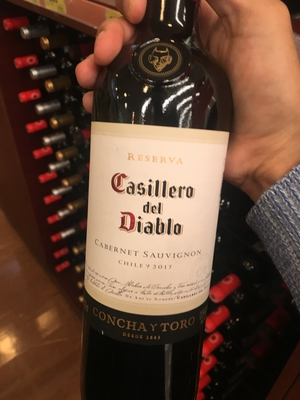casillero del diablo cabernet sauvignon: (69, 14, 233, 400)
